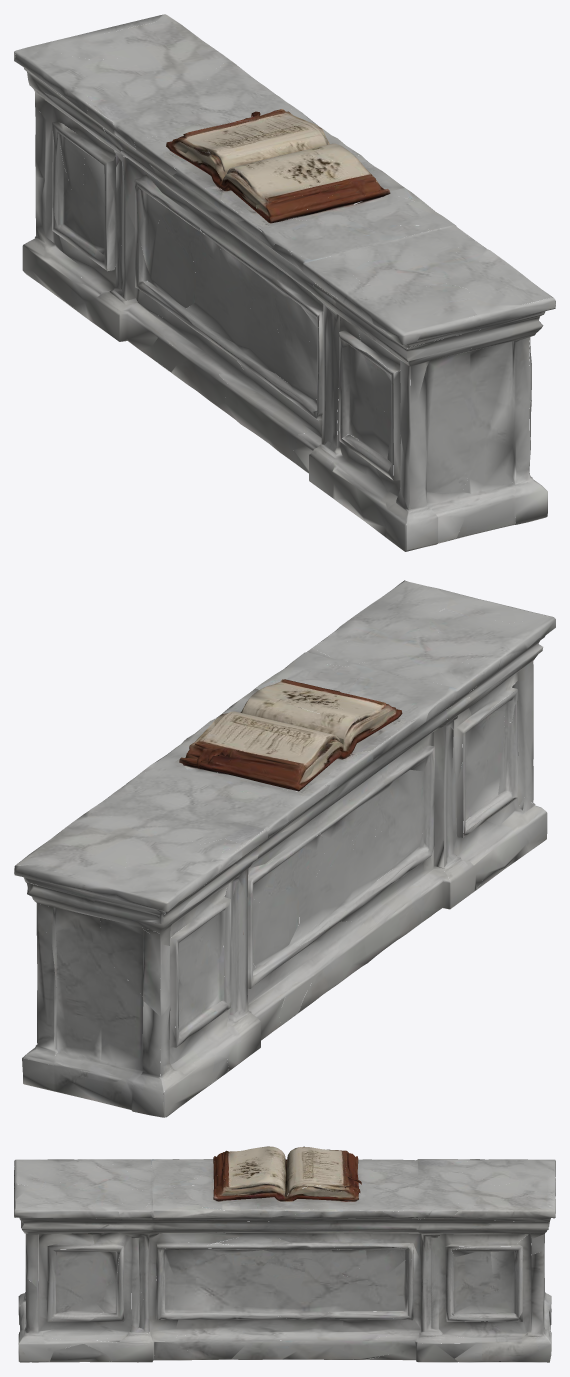
The model's file is penn_census_desk.glb.
The picture shows the model from 3 angles, top to bottom: view 1: azimuth 30°, elevation 25°; view 2: azimuth 150°, elevation 25°; view 3: azimuth 270°, elevation 25°; orthographic projection. The views are drawn at different scales.
Parts seen in each view (by area): view 1: tripo_node_b3af6cbf-0a3f-435f-9ac8-5209464bec9c; view 2: tripo_node_b3af6cbf-0a3f-435f-9ac8-5209464bec9c; view 3: tripo_node_b3af6cbf-0a3f-435f-9ac8-5209464bec9c.
Boxes of the visible parts, box(x1,y1,x2,y2) form: tripo_node_b3af6cbf-0a3f-435f-9ac8-5209464bec9c: box(14, 14, 555, 551); tripo_node_b3af6cbf-0a3f-435f-9ac8-5209464bec9c: box(14, 580, 555, 1117); tripo_node_b3af6cbf-0a3f-435f-9ac8-5209464bec9c: box(14, 1146, 555, 1362).
Size of the model in its own units: 0.229 by 0.3521 by 1.
Materials: 1 (1 with a texture image).
